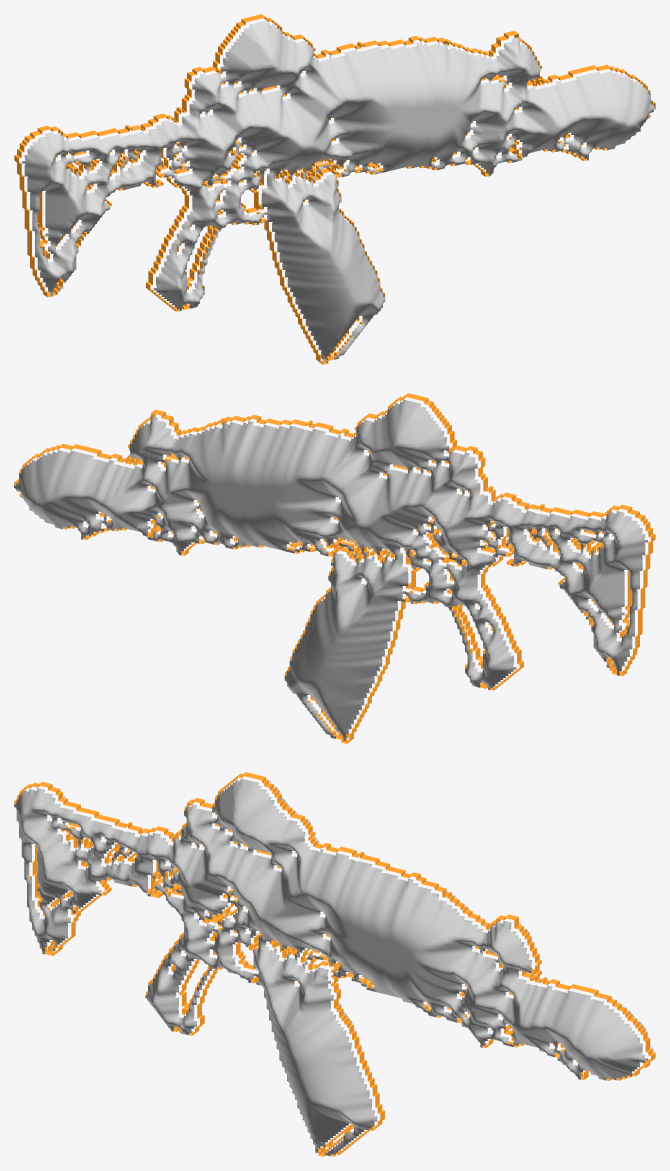
The model's file is val-prime-vandal.glb.
3 views of the same model, one above another, from view 1: azimuth 30°, elevation 25°; view 2: azimuth 150°, elevation 25°; view 3: azimuth 330°, elevation 25° (orthographic).
Parts seen in each view (by area): view 1: projected-skin, silhouette-edge; view 2: projected-skin, silhouette-edge; view 3: projected-skin, silhouette-edge.
Part boxes in pixels (x1=…): projected-skin: x1=22, y1=20, x2=655, y2=362; silhouette-edge: x1=14, y1=14, x2=655, y2=364; projected-skin: x1=14, y1=399, x2=647, y2=741; silhouette-edge: x1=14, y1=393, x2=655, y2=743; projected-skin: x1=14, y1=778, x2=653, y2=1156; silhouette-edge: x1=14, y1=772, x2=655, y2=1156.
Size of the model in its own units: 0.9686 by 0.5255 by 0.12.
